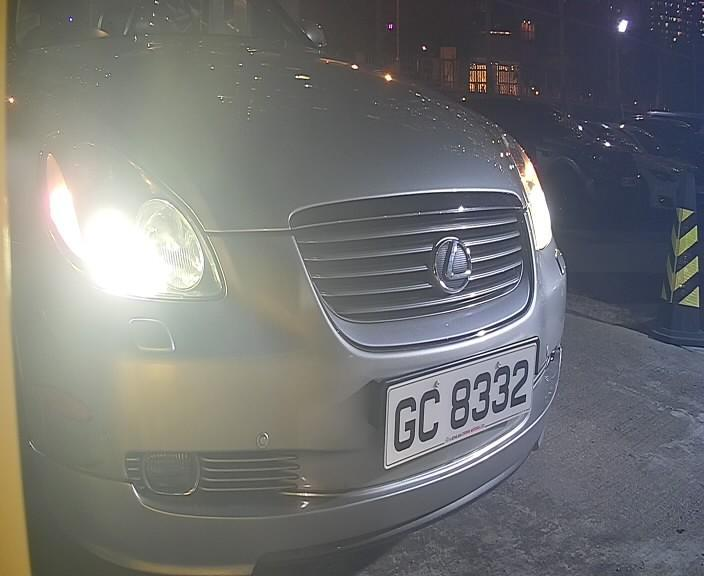License Plate: (378, 340, 535, 466)
